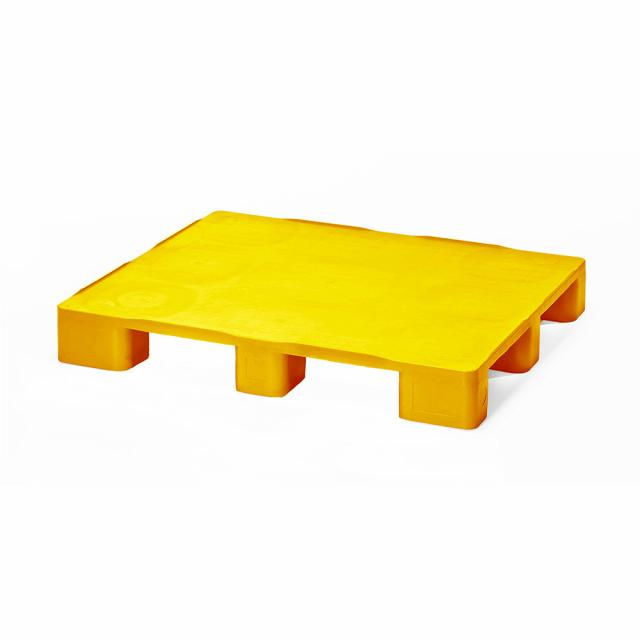block: (401, 366, 482, 432), (53, 307, 135, 371), (231, 336, 290, 396)
front: (48, 301, 484, 436)
